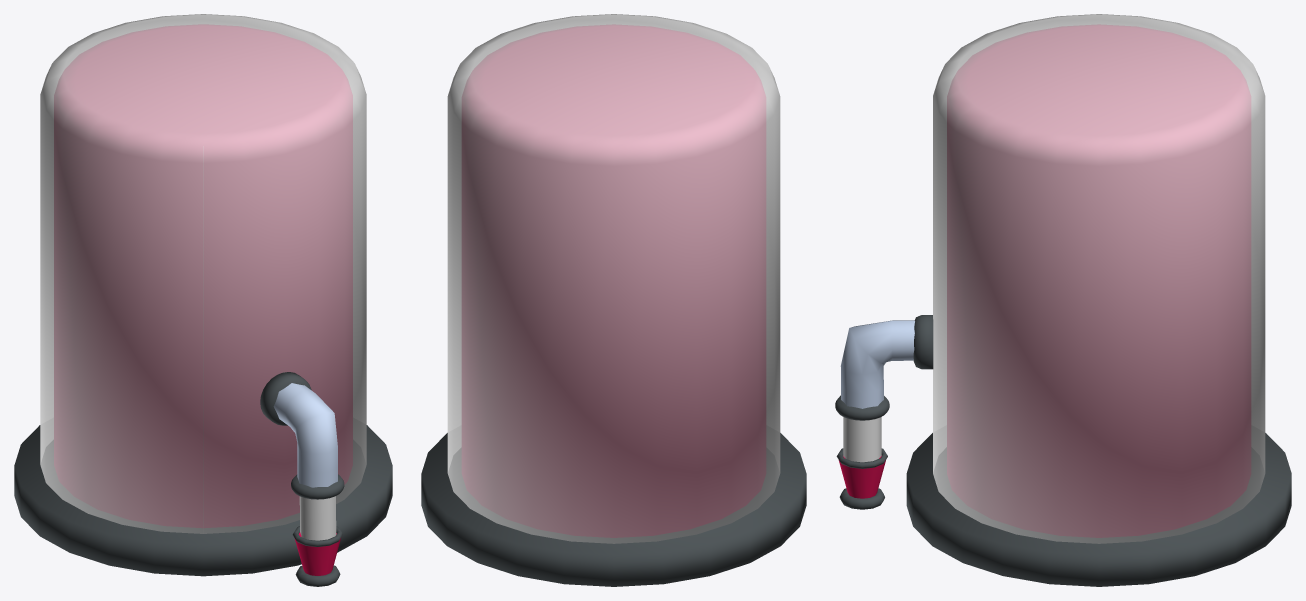
Rendered from Warehouse.fbx.
3 renders of one model, left to right at view 1: azimuth 30°, elevation 25°; view 2: azimuth 150°, elevation 25°; view 3: azimuth 270°, elevation 25°, orthographic.
Parts seen in each view (by area): view 1: Warehouse, Paint Warehouse, Hose End, Rope; view 2: Warehouse, Paint Warehouse; view 3: Warehouse, Paint Warehouse, Hose End, Rope.
Boxes of the visible parts, x1,y1,x2,y2 form: Warehouse: [14, 14, 392, 576]; Paint Warehouse: [54, 25, 352, 527]; Hose End: [292, 526, 342, 586]; Rope: [299, 496, 336, 540]; Warehouse: [421, 14, 806, 586]; Paint Warehouse: [462, 25, 765, 537]; Warehouse: [835, 14, 1291, 586]; Paint Warehouse: [947, 25, 1250, 537]; Hose End: [836, 448, 887, 509]; Rope: [843, 417, 881, 462].
Size of the model in its own units: 3.1 by 3.83 by 3.68.
